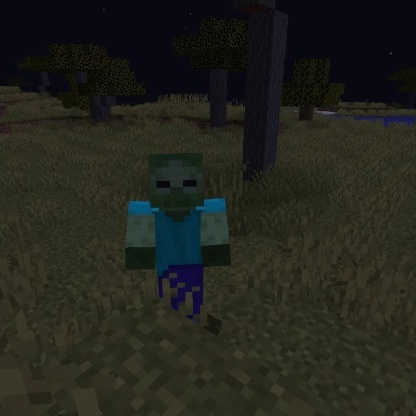zombie: (122, 149, 235, 326)
